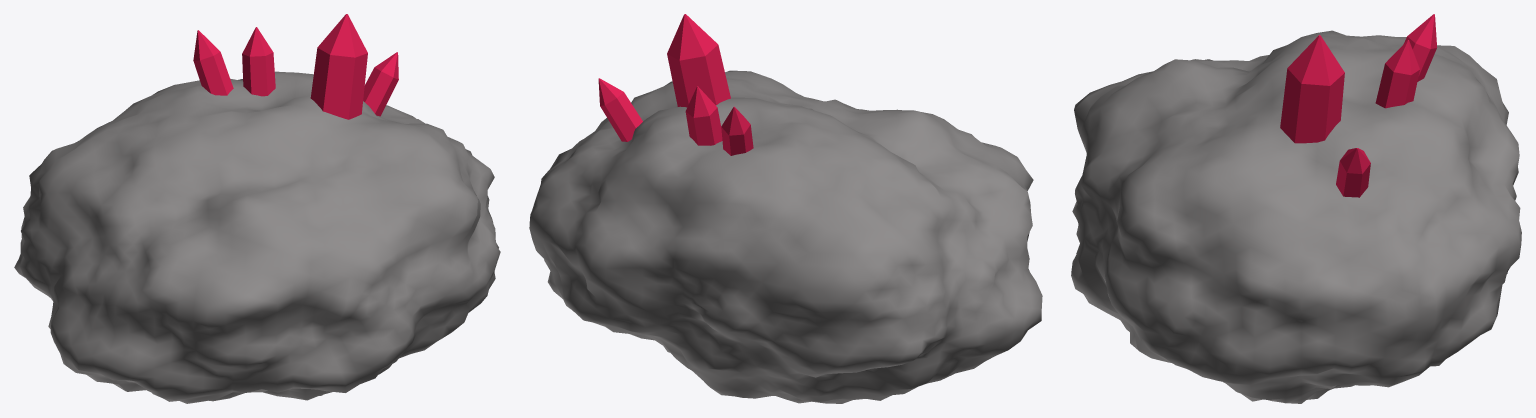
File: ruby_surface.glb
The picture shows the model from 3 angles, left to right: view 1: azimuth 30°, elevation 25°; view 2: azimuth 150°, elevation 25°; view 3: azimuth 270°, elevation 25°; orthographic projection. The views are drawn at different scales.
Parts seen in each view (by area): view 1: ruby_surface; view 2: ruby_surface; view 3: ruby_surface.
Part boxes in pixels (<box>): ruby_surface: <box>14,14,500,403</box>; ruby_surface: <box>529,14,1042,403</box>; ruby_surface: <box>1071,14,1521,403</box>.
Size of the model in its own units: 1.28 by 0.9703 by 1.02.
